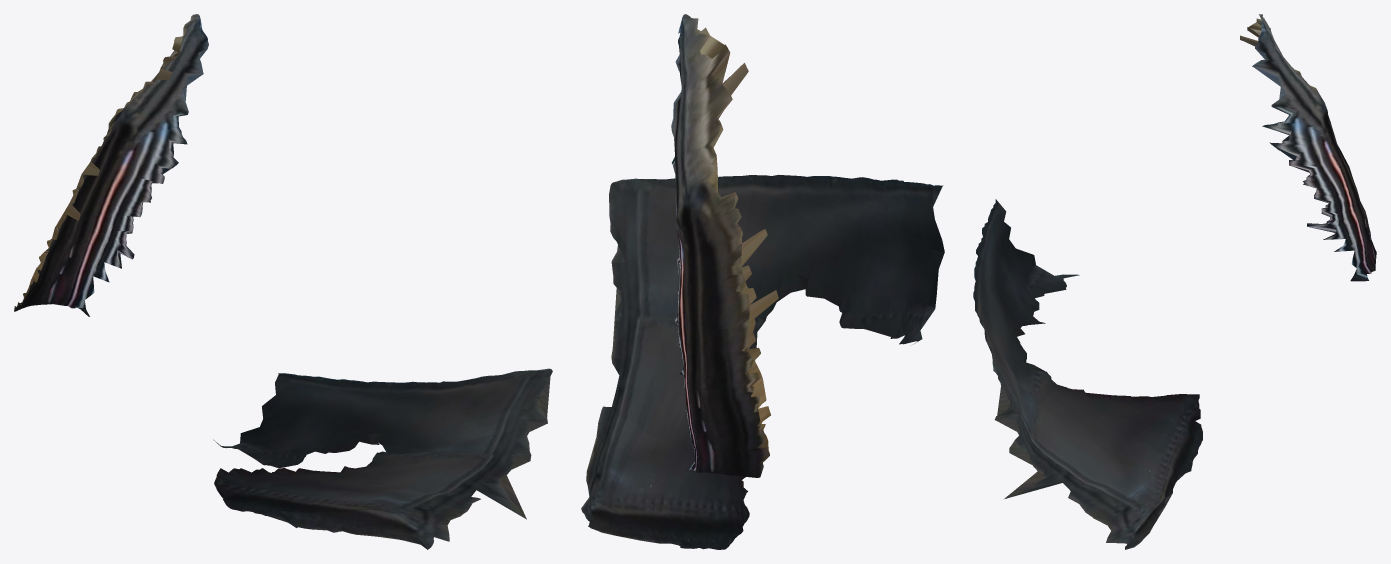
File: observed-surface.glb
The picture shows the model from 3 angles, left to right: view 1: azimuth 30°, elevation 25°; view 2: azimuth 150°, elevation 25°; view 3: azimuth 270°, elevation 25°; orthographic projection. The views are drawn at different scales.
Visible parts, largest first — view 1: geometry_0; view 2: geometry_0; view 3: geometry_0.
Boxes of the visible parts, left/top/right/bottom form: geometry_0: left=14, top=14, right=552, bottom=549; geometry_0: left=581, top=14, right=944, bottom=549; geometry_0: left=973, top=14, right=1376, bottom=549.
Size of the model in its own units: 0.4729 by 0.7042 by 0.5513.
Materials: 1 (1 with a texture image).
